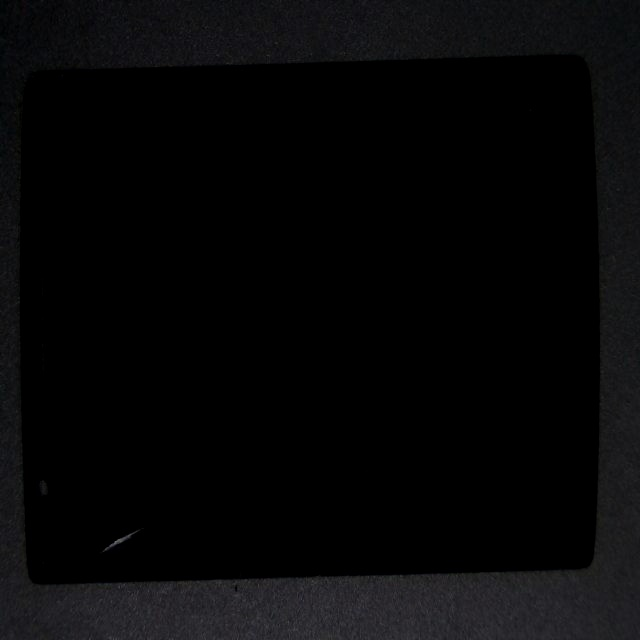scratch: (109, 246, 198, 640)
